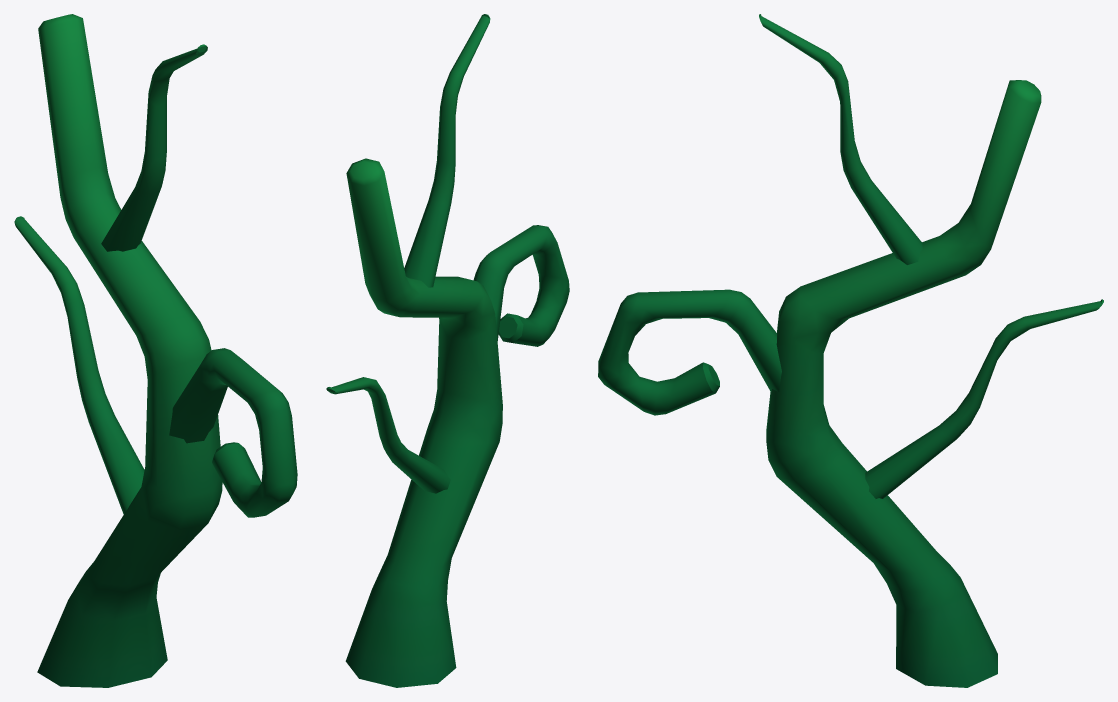
Rendered from Vine_4_2.obj.
The picture shows the model from 3 angles, left to right: view 1: azimuth 30°, elevation 25°; view 2: azimuth 150°, elevation 25°; view 3: azimuth 270°, elevation 25°; orthographic projection. The views are drawn at different scales.
Parts seen in each view (by area): view 1: Vine_4_2; view 2: Vine_4_2; view 3: Vine_4_2.
Part boxes in pixels (<box>): Vine_4_2: <box>14,14,297,687</box>; Vine_4_2: <box>326,14,569,687</box>; Vine_4_2: <box>598,14,1103,687</box>.
Size of the model in its own units: 0.1582 by 0.9674 by 0.6831.
